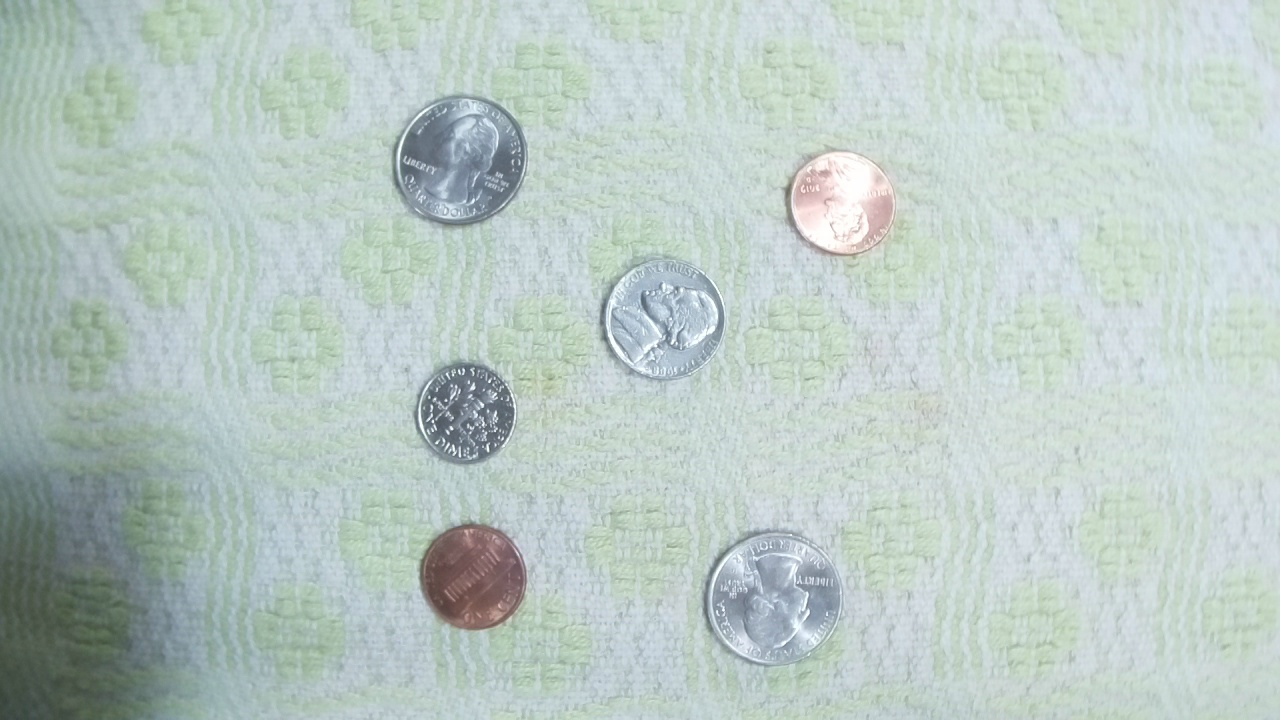dime: (409, 358, 521, 466)
nickel: (598, 251, 730, 385)
penny: (781, 145, 903, 259), (416, 520, 530, 632)
quarter: (700, 530, 844, 668), (389, 93, 533, 229)
